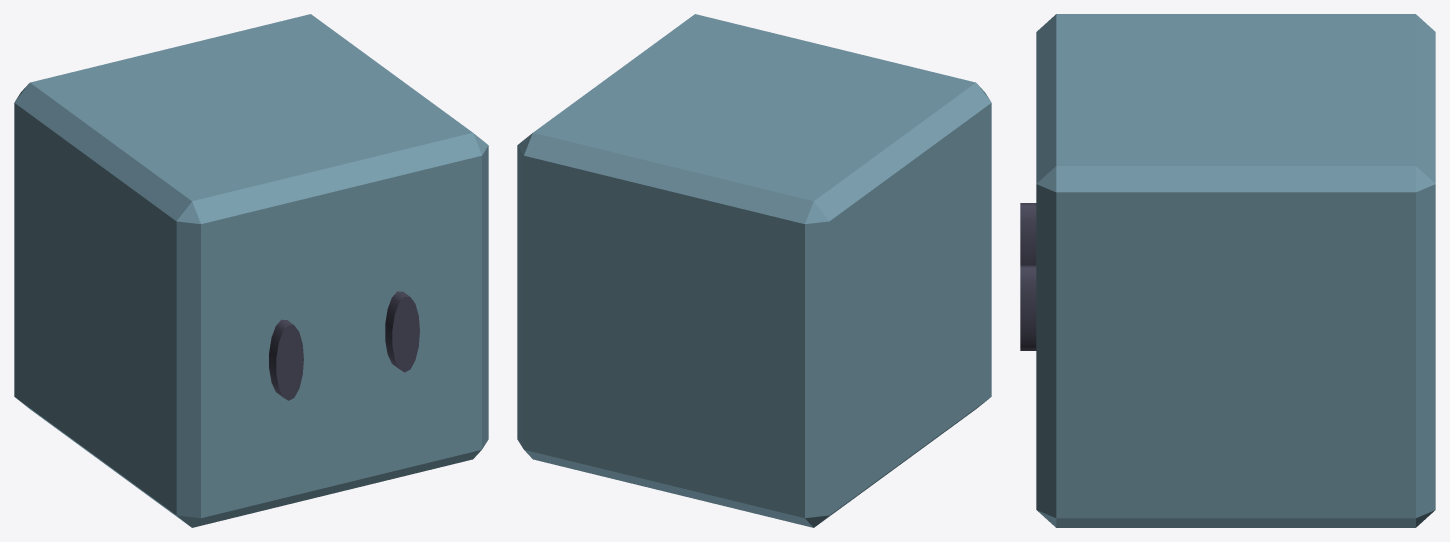
File: Slime2.fbx
3 renders of one model, left to right at view 1: azimuth 30°, elevation 25°; view 2: azimuth 150°, elevation 25°; view 3: azimuth 270°, elevation 25°, orthographic. The views are drawn at different scales.
Visible parts, largest first — view 1: Slime2; view 2: Slime2; view 3: Slime2.
Boxes of the visible parts, x1=… form: Slime2: x1=14, y1=14, x2=488, y2=527; Slime2: x1=517, y1=14, x2=991, y2=527; Slime2: x1=1020, y1=14, x2=1435, y2=527.
Bounding box in the file's own units: 166 × 166 × 173.
